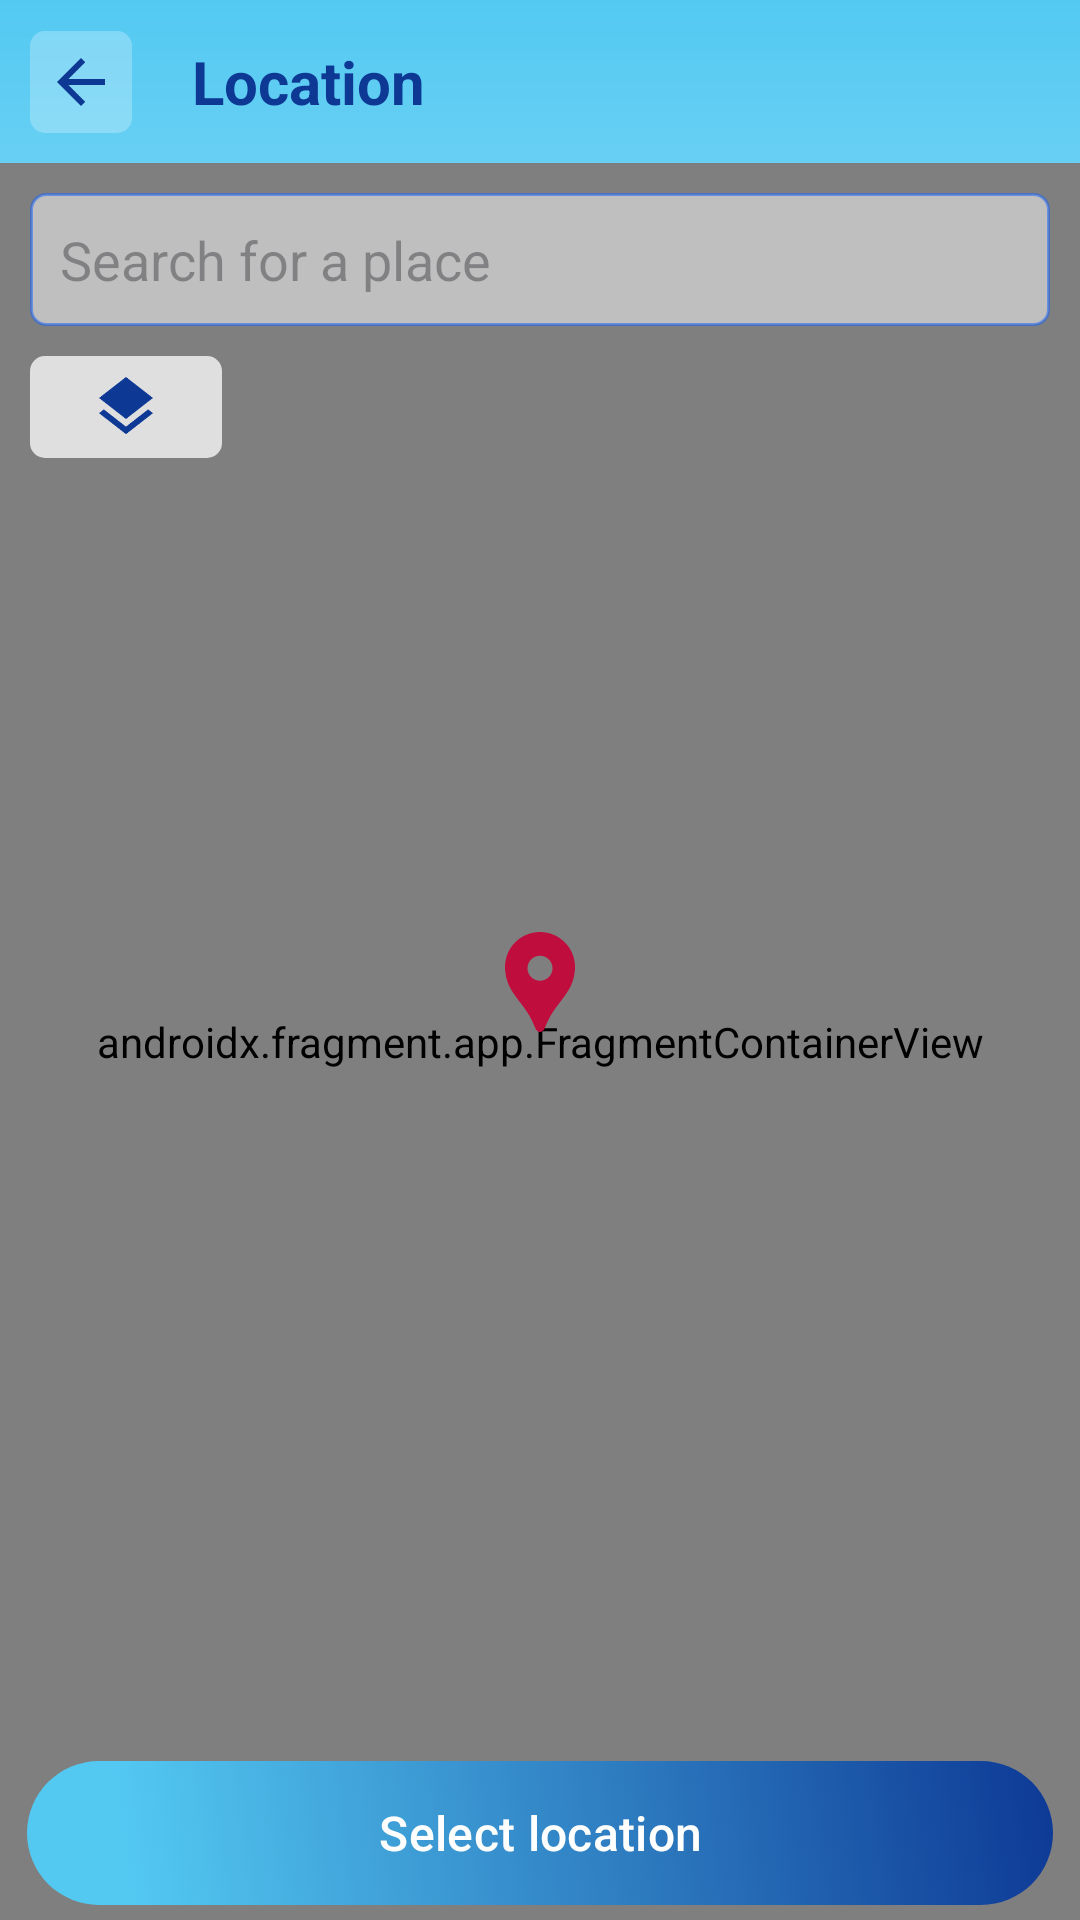

Where icons sit on this 1080px x 1920px app screen, as (x1, y1, x2, y2):
Back: (30, 31, 132, 133)
Map Type: (30, 356, 222, 458)
